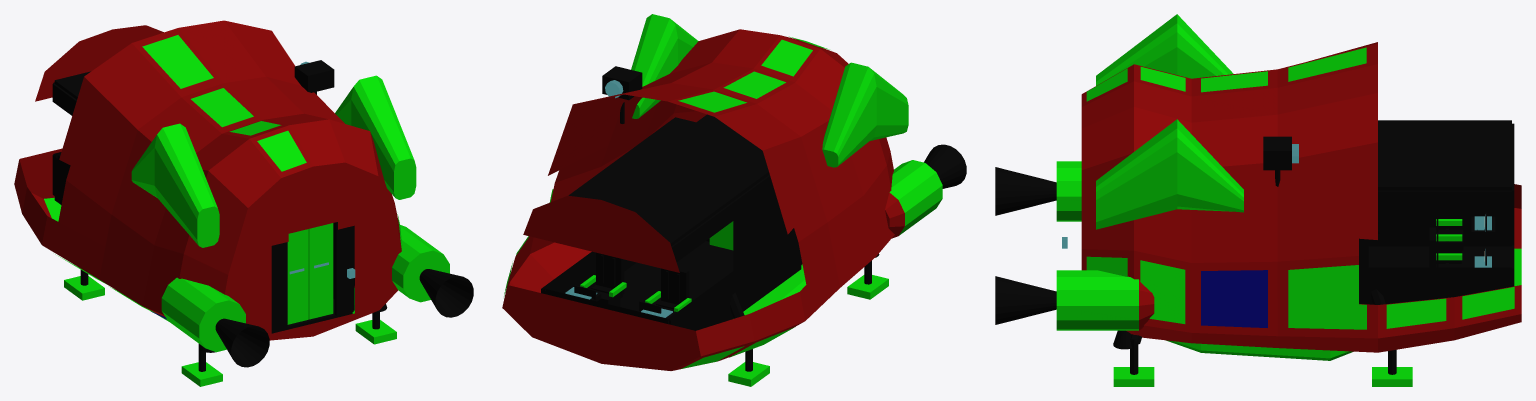
Rendered from moth.glb.
The picture shows the model from 3 angles, left to right: view 1: azimuth 30°, elevation 25°; view 2: azimuth 150°, elevation 25°; view 3: azimuth 270°, elevation 25°; orthographic projection. The views are drawn at different scales.
Parts seen in each view (by area): view 1: expedition_moth:lifting_body, expedition_moth:scout_aft_ridge_-1, expedition_moth:service_panels_0, expedition_moth:scout_aft_ridge_1, expedition_moth:drive_housing_-1, expedition_moth:room_eva, expedition_moth:drive_housing_1, expedition_moth:door_eva-outer_1, expedition_moth:door_eva-outer_-1, expedition_moth:engine_0, expedition_moth:engine_1, expedition_moth:room_bridge (+5 smaller); view 2: expedition_moth:lifting_body, expedition_moth:room_bridge, expedition_moth:ceiling_bridge, expedition_moth:scout_aft_ridge_-1, expedition_moth:service_panels_0, expedition_moth:scout_aft_ridge_1, expedition_moth:drive_housing_-1, expedition_moth:seat_1, expedition_moth:seat_0, expedition_moth:engine_0, expedition_moth:survey_instruments, expedition_moth:ventral_sensor_cheek_-1 (+4 smaller); view 3: expedition_moth:lifting_body, expedition_moth:service_panels_0, expedition_moth:room_bridge, expedition_moth:ceiling_bridge, expedition_moth:scout_aft_ridge_1, expedition_moth:drive_housing_1, expedition_moth:scout_aft_ridge_-1, expedition_moth:engine_1, expedition_moth:engine_0, expedition_moth:ventral_sensor_cheek_1, expedition_moth:drive_housing_-1, expedition_moth:survey_instruments (+5 smaller).
Part boxes in pixels (left/top/right/bottom): expedition_moth:lifting_body: left=14, top=20, right=401, bottom=340; expedition_moth:scout_aft_ridge_-1: left=131, top=123, right=219, bottom=247; expedition_moth:service_panels_0: left=55, top=35, right=402, bottom=319; expedition_moth:scout_aft_ridge_1: left=335, top=75, right=416, bottom=199; expedition_moth:drive_housing_-1: left=161, top=277, right=245, bottom=352; expedition_moth:room_eva: left=271, top=222, right=354, bottom=333; expedition_moth:drive_housing_1: left=392, top=225, right=449, bottom=302; expedition_moth:door_eva-outer_1: left=308, top=223, right=333, bottom=319; expedition_moth:door_eva-outer_-1: left=287, top=229, right=308, bottom=324; expedition_moth:engine_0: left=215, top=318, right=269, bottom=367; expedition_moth:engine_1: left=419, top=269, right=473, bottom=317; expedition_moth:room_bridge: left=52, top=82, right=76, bottom=204; expedition_moth:lifting_body: left=502, top=29, right=894, bottom=370; expedition_moth:room_bridge: left=541, top=174, right=802, bottom=330; expedition_moth:ceiling_bridge: left=568, top=117, right=769, bottom=245; expedition_moth:scout_aft_ridge_-1: left=822, top=62, right=908, bottom=167; expedition_moth:service_panels_0: left=504, top=36, right=829, bottom=368; expedition_moth:scout_aft_ridge_1: left=631, top=14, right=698, bottom=118; expedition_moth:drive_housing_-1: left=885, top=160, right=942, bottom=238; expedition_moth:seat_1: left=580, top=252, right=626, bottom=306; expedition_moth:seat_0: left=645, top=268, right=691, bottom=311; expedition_moth:engine_0: left=924, top=144, right=966, bottom=188; expedition_moth:survey_instruments: left=602, top=66, right=642, bottom=123; expedition_moth:ventral_sensor_cheek_-1: left=743, top=264, right=806, bottom=315; expedition_moth:lifting_body: left=1081, top=42, right=1521, bottom=352; expedition_moth:service_panels_0: left=1086, top=47, right=1514, bottom=329; expedition_moth:room_bridge: left=1359, top=123, right=1514, bottom=304; expedition_moth:ceiling_bridge: left=1378, top=120, right=1511, bottom=190; expedition_moth:scout_aft_ridge_1: left=1096, top=119, right=1243, bottom=229; expedition_moth:drive_housing_1: left=1056, top=270, right=1154, bottom=330; expedition_moth:scout_aft_ridge_-1: left=1096, top=14, right=1233, bottom=85; expedition_moth:engine_1: left=995, top=276, right=1056, bottom=324; expedition_moth:engine_0: left=995, top=167, right=1056, bottom=215; expedition_moth:ventral_sensor_cheek_1: left=1166, top=340, right=1353, bottom=360; expedition_moth:drive_housing_-1: left=1056, top=161, right=1081, bottom=221; expedition_moth:survey_instruments: left=1263, top=136, right=1298, bottom=186.
Size of the model in its own units: 7.2 by 6.24 by 11.
